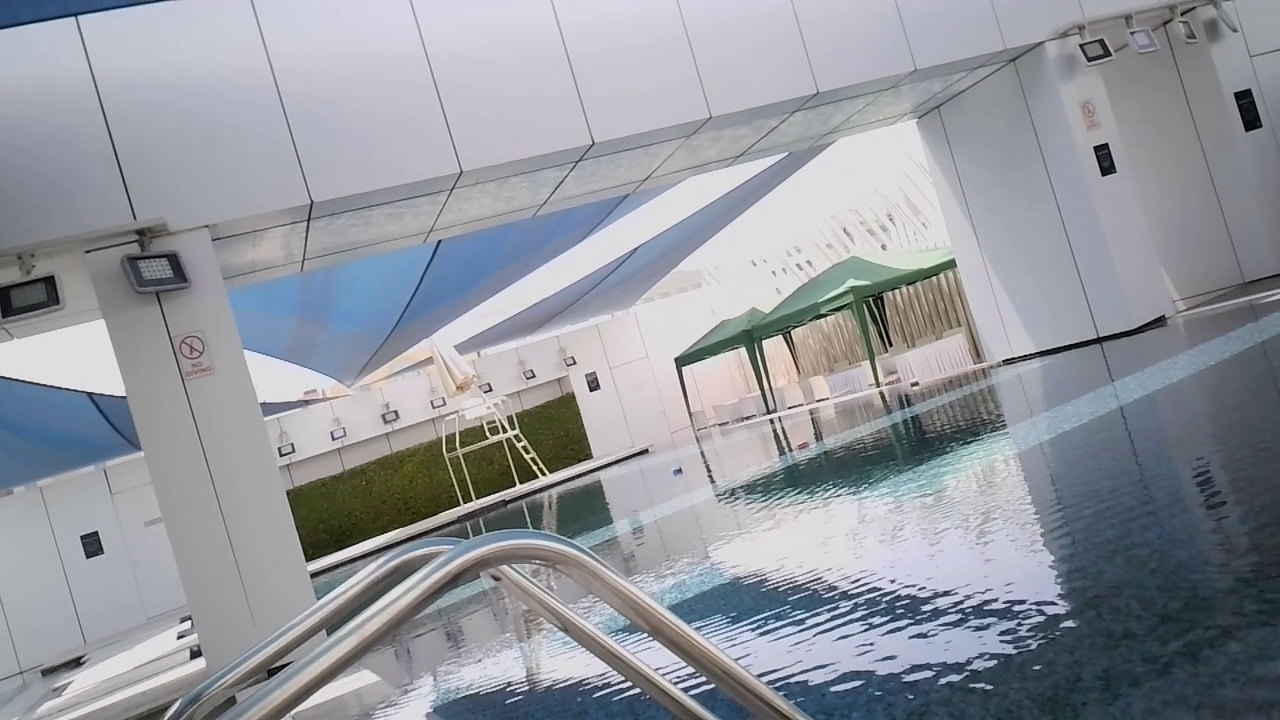debris: (790, 440, 815, 454), (668, 464, 684, 477), (908, 379, 921, 390)
